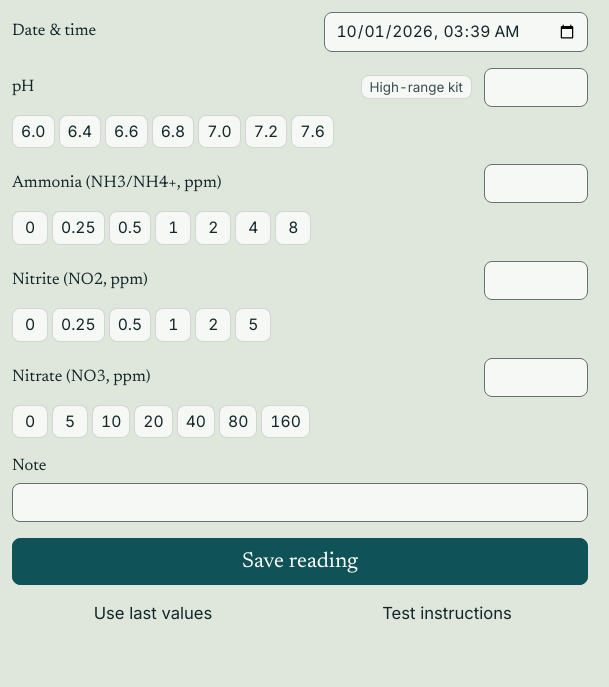
Test: QuickEntry validation › rejects an all-blank form with a form-level error
The image size is (609, 687).
Click the button "Save reading".
click(300, 562)  # box [12,538,588,585]
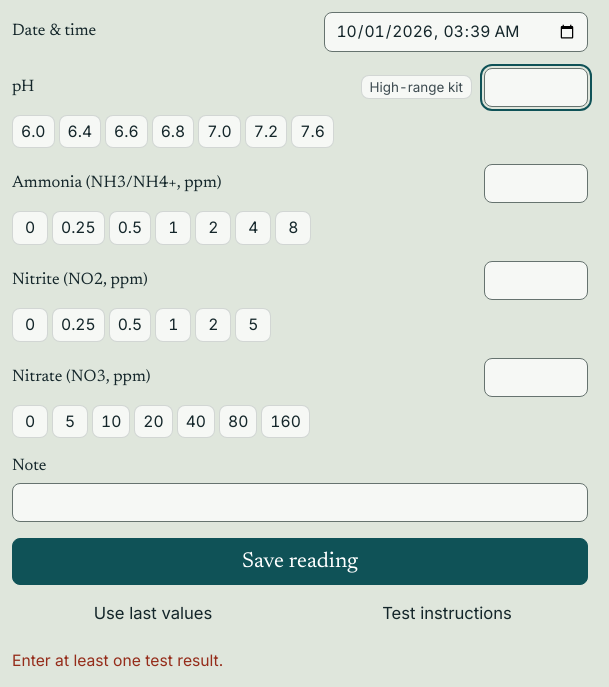
Now the text "Enter at least one test result." is shown, box [12,651,223,670]
